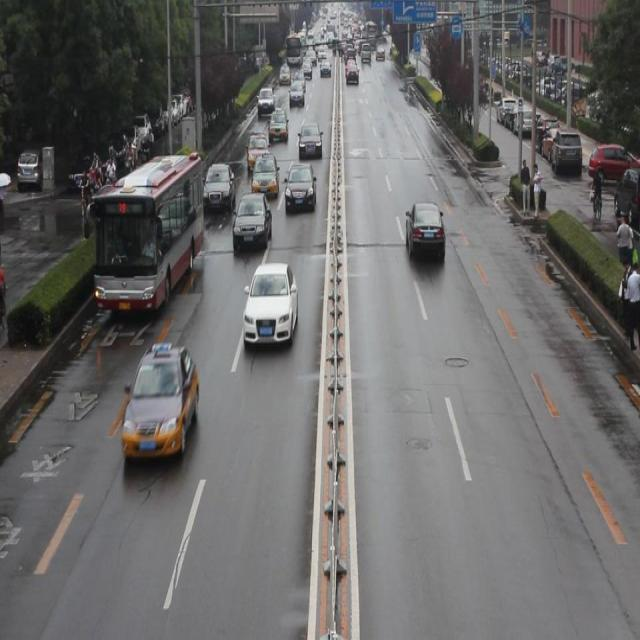car: (120, 340, 198, 460), (244, 261, 298, 348), (92, 182, 149, 228), (232, 190, 271, 252), (404, 201, 444, 261), (283, 162, 316, 214), (203, 162, 235, 214), (252, 155, 278, 196), (298, 121, 322, 159), (247, 133, 270, 169), (267, 107, 289, 143), (257, 87, 275, 116)
van: (94, 152, 204, 314)
